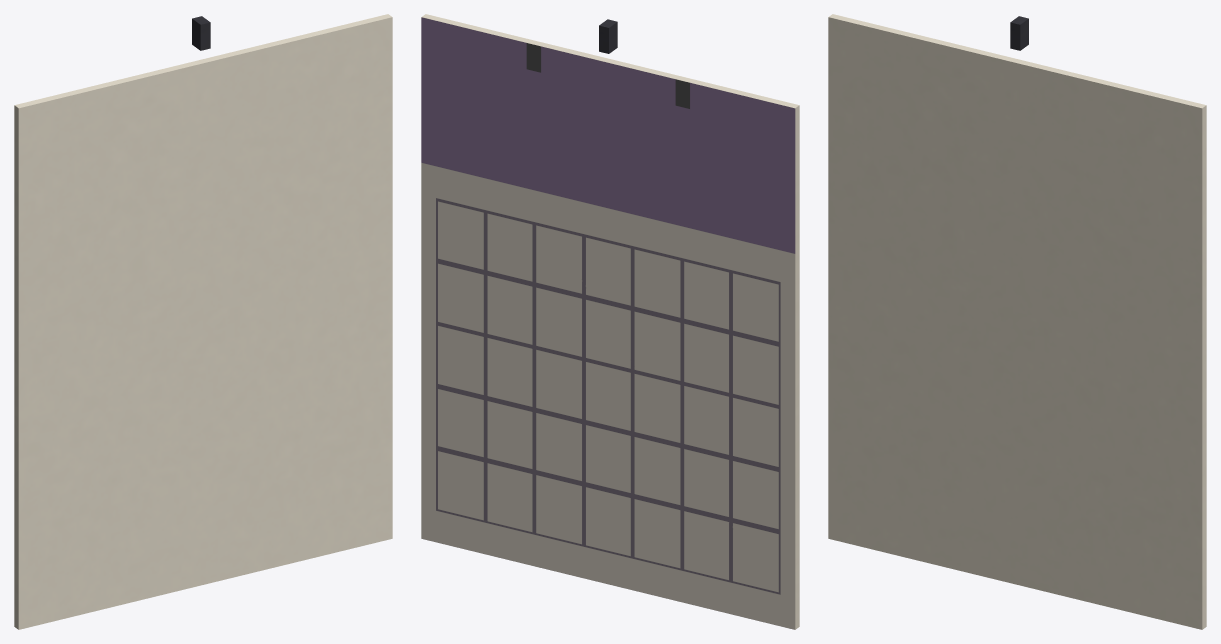
File: SM_Calendar.fbx
3 views of the same model, side by side, from view 1: azimuth 30°, elevation 25°; view 2: azimuth 150°, elevation 25°; view 3: azimuth 330°, elevation 25° (orthographic).
Visible parts, largest first — view 1: SM_Calendar; view 2: SM_Calendar; view 3: SM_Calendar.
Boxes of the visible parts, left/top/right/bottom form: SM_Calendar: left=14, top=14, right=392, bottom=629; SM_Calendar: left=421, top=14, right=799, bottom=629; SM_Calendar: left=828, top=14, right=1206, bottom=629.
Size of the model in its own units: 0.3 by 0.43 by 0.012.
3 materials, 3 textured.
